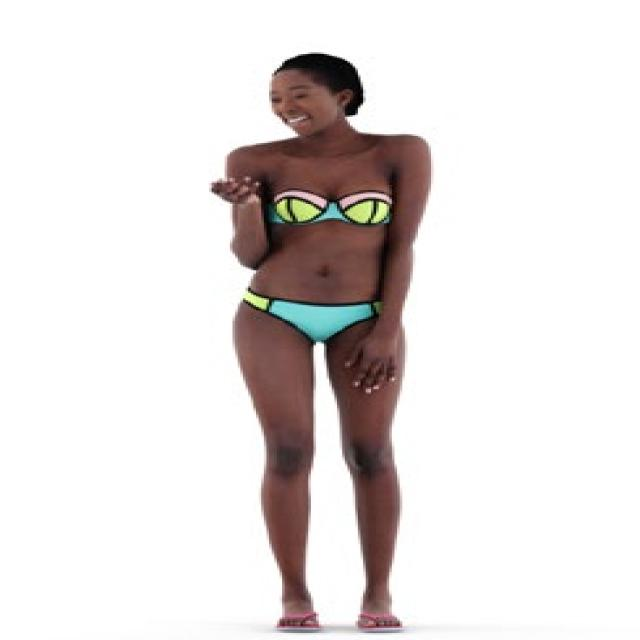standing: (212, 53, 446, 640)
